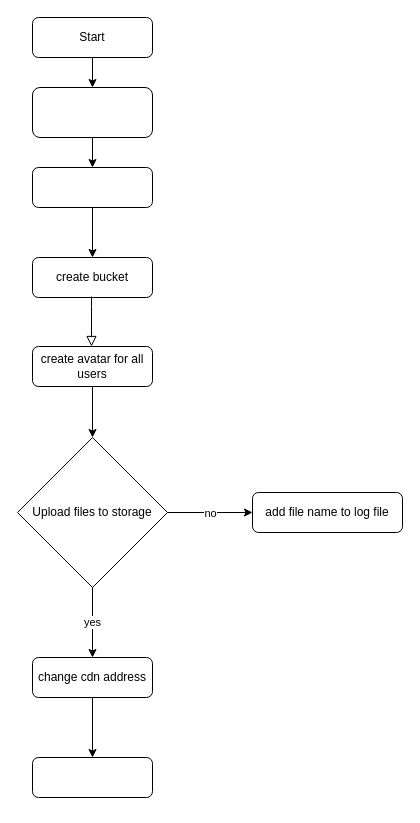
This 420x823 diagram has some shape labels left out. The box of each missing label's shape, as (x1, y1, x2, y2) in pixels:
change app status to maintanance: (32, 86, 152, 138)
connect to storage: (32, 166, 152, 208)
End: (32, 756, 152, 798)
